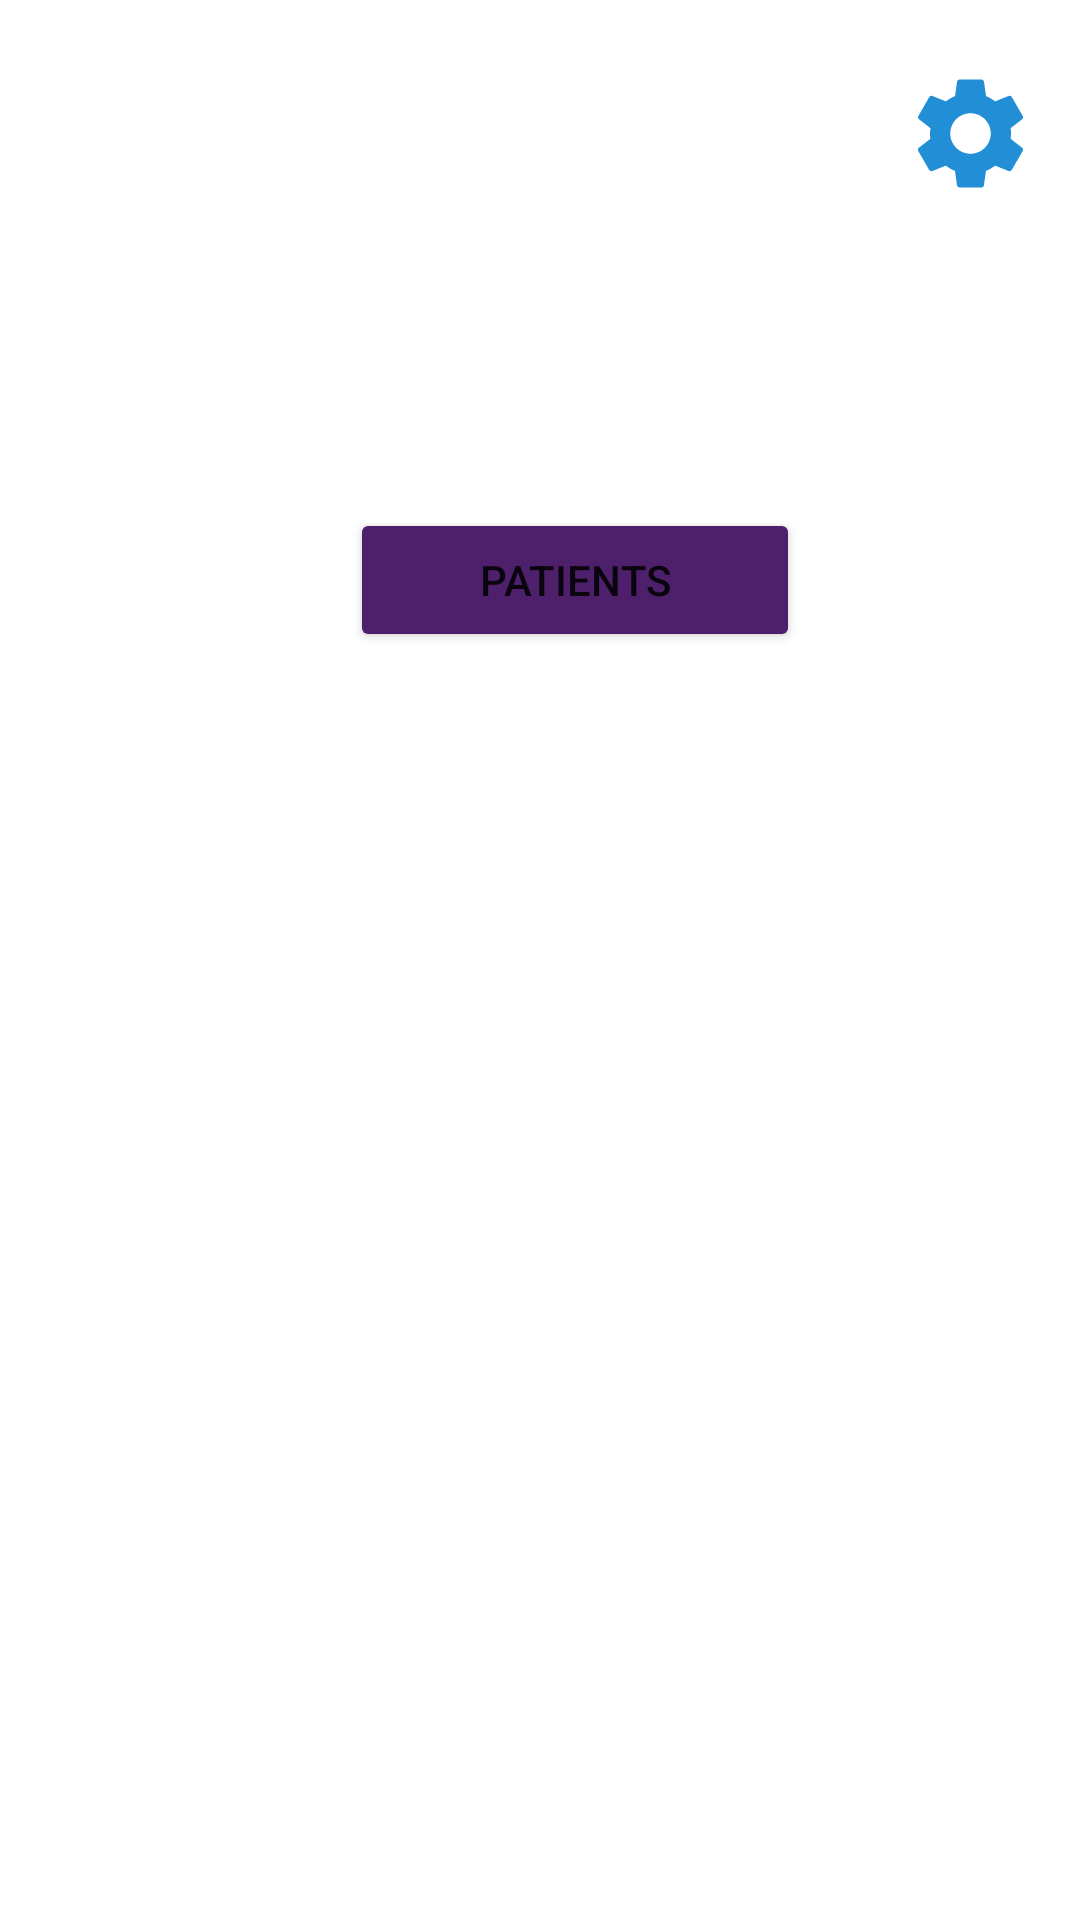

Screen size 1080w x 1920h. Icon name, then its center in pixels as (x,y):
settings: (970,133)
